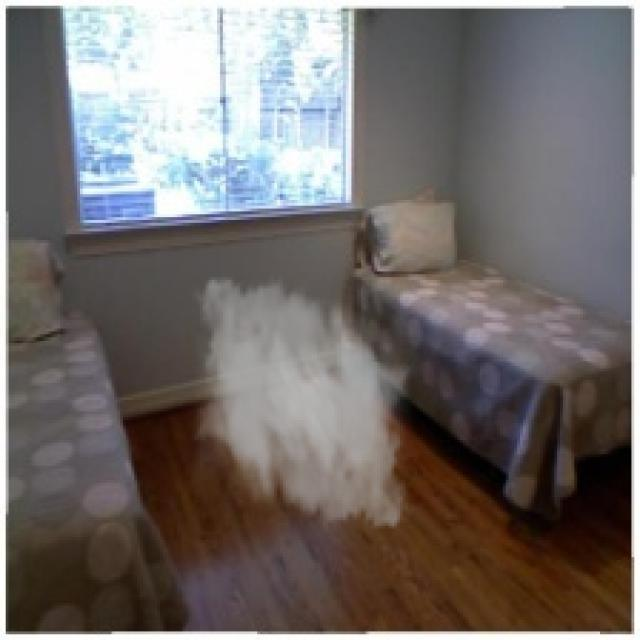Smoke: (177, 266, 423, 540)
